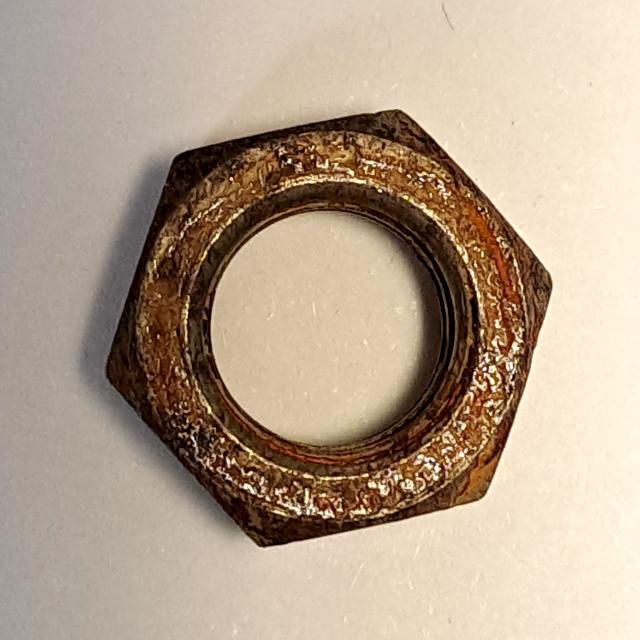Rust: (81, 89, 564, 570)
